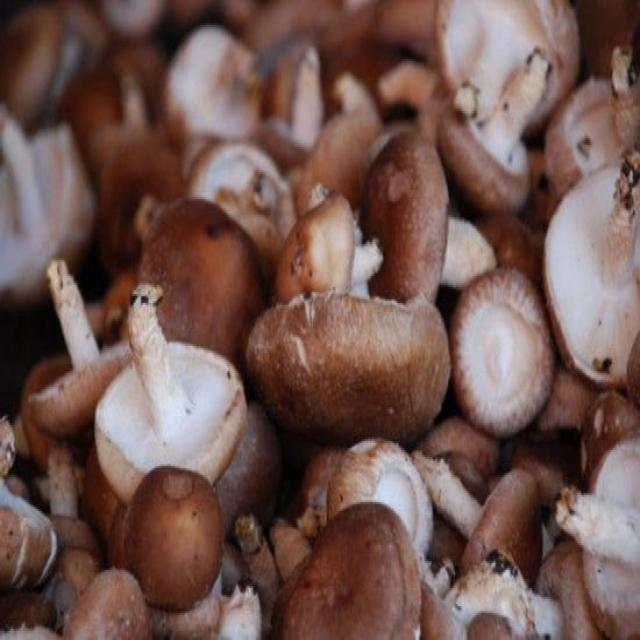Lentinus edodes: (247, 193, 450, 444), (95, 289, 247, 492), (544, 155, 640, 382), (291, 498, 421, 640), (33, 257, 131, 432), (458, 265, 553, 432), (444, 56, 549, 205), (186, 140, 298, 260), (281, 195, 382, 302)
